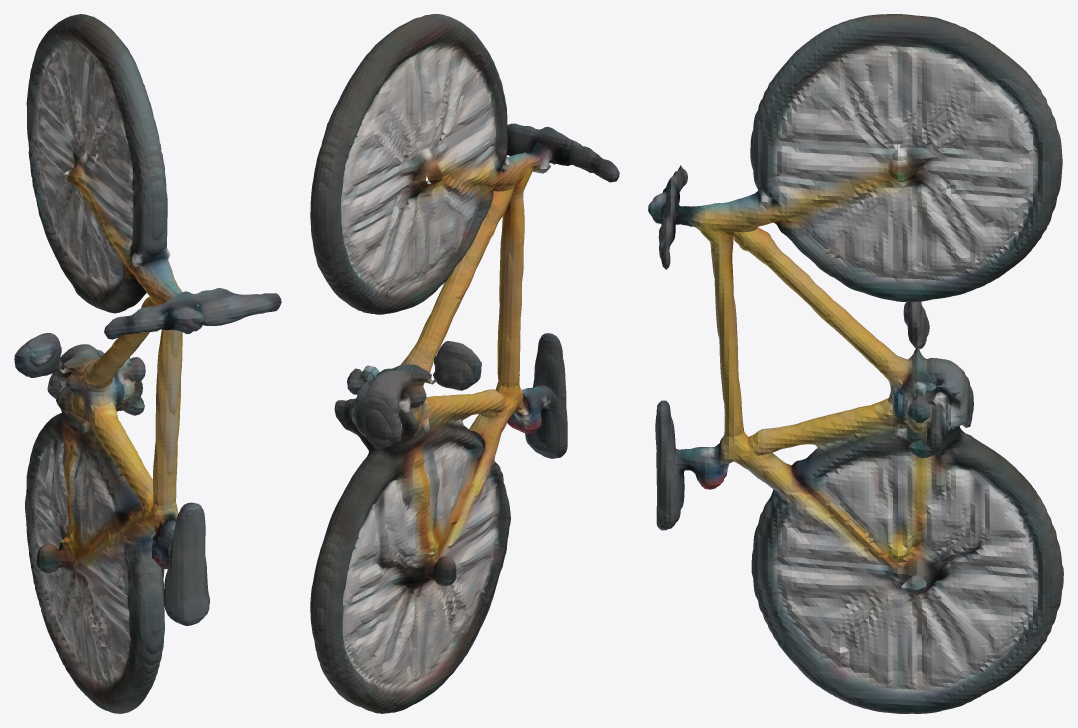
The model's file is bicycle.glb.
3 views of the same model, side by side, from view 1: azimuth 30°, elevation 25°; view 2: azimuth 150°, elevation 25°; view 3: azimuth 270°, elevation 25° (orthographic). The views are drawn at different scales.
Parts seen in each view (by area): view 1: world; view 2: world; view 3: world.
Part boxes in pixels (left/top/right/bottom): world: left=14, top=14, right=281, bottom=713; world: left=310, top=14, right=619, bottom=713; world: left=648, top=14, right=1063, bottom=713.
Size of the model in its own units: 0.2872 by 1.09 by 0.5878.
